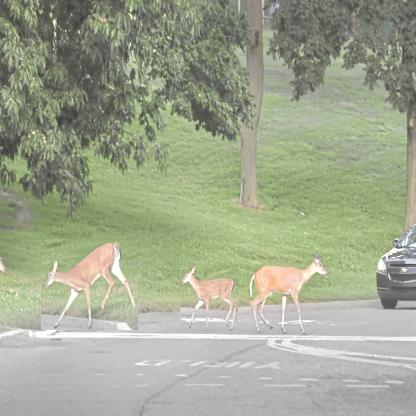Deer: (41, 239, 138, 330), (248, 251, 331, 337), (180, 265, 238, 332)
